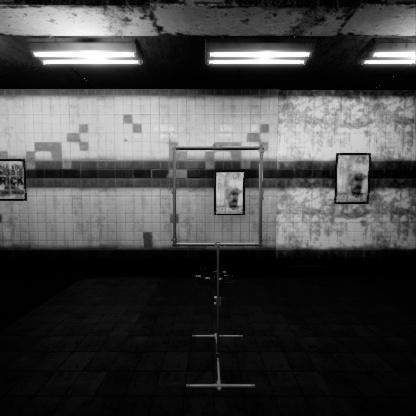gate: (173, 168, 272, 270)
